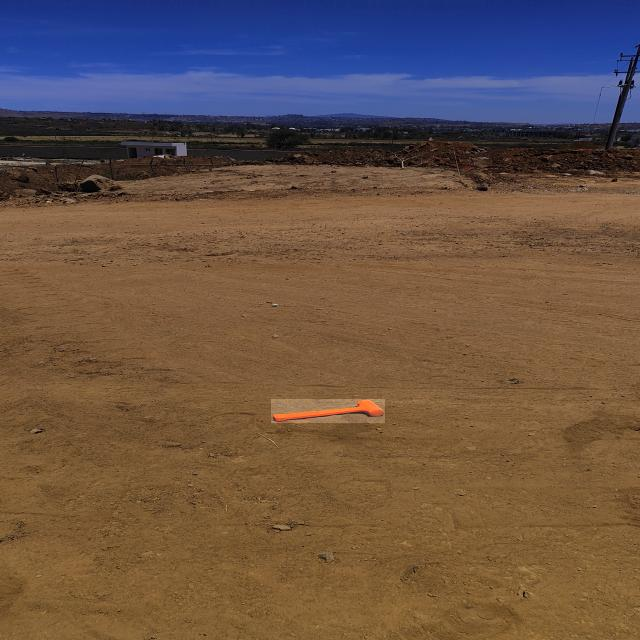Orange_hammer: (272, 399, 386, 424)
